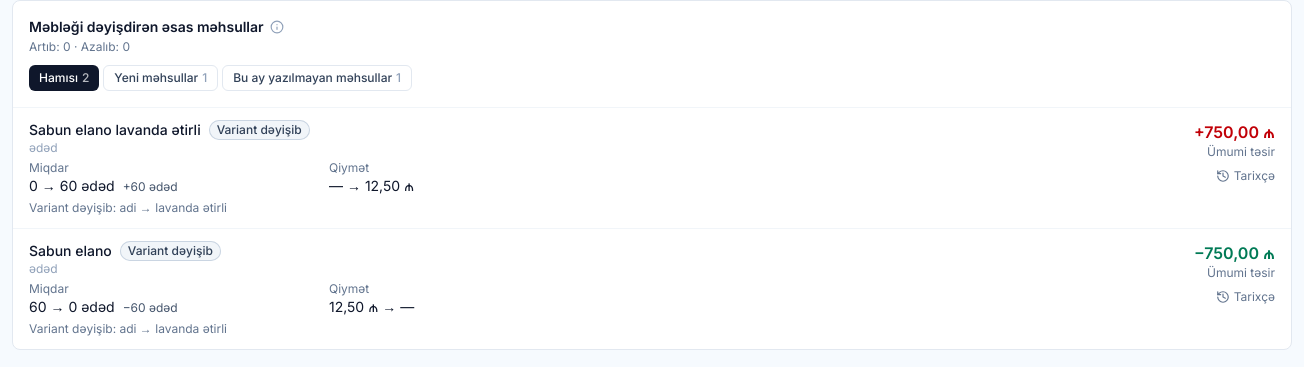
Test: an approved variant transition › still counts both under "Yeni məhsullar" and "Bu ay yazılmayan", by their state
Check: the button "Bu ay yazılmayan məhsullar1" is shown, box [222,65,412,91]
Click the button "Yeni məhsullar1".
click(161, 78)  # box [103,65,218,91]
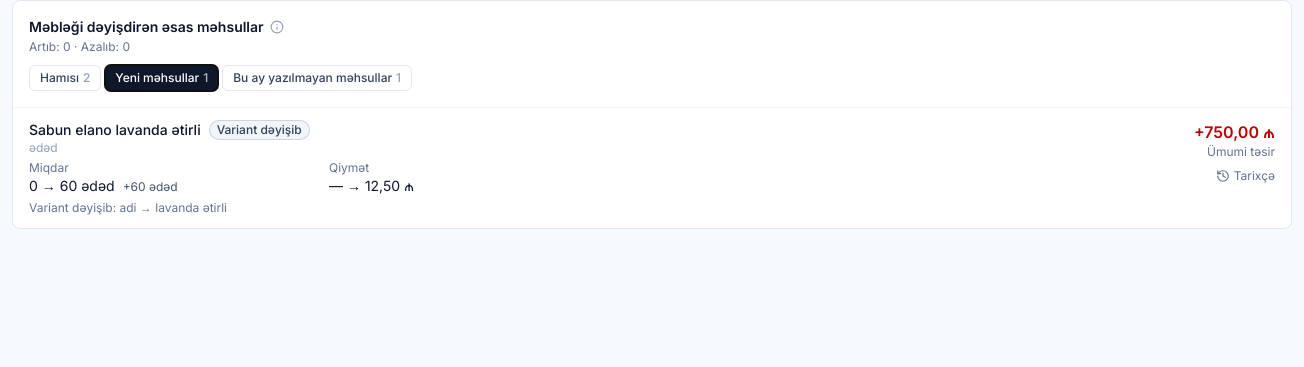
Check: the text "Sabun elano lavanda ətirli" is shown, box [29,120,201,140]
Check: the number of list items is 1, box [13,108,1291,228]
